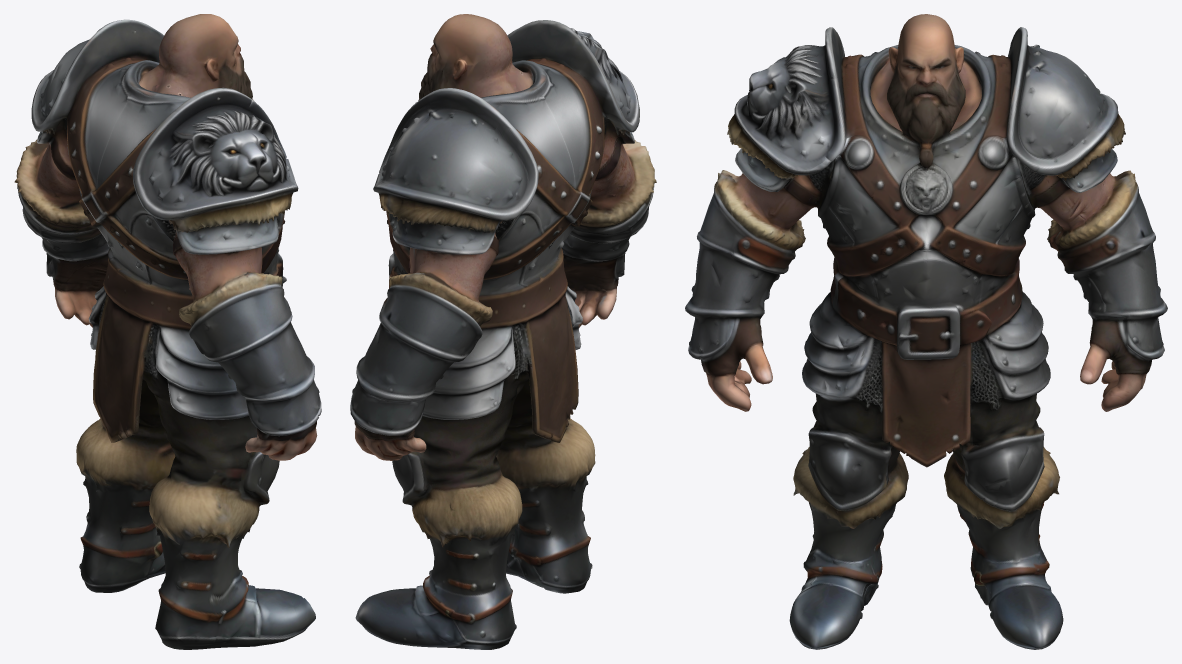
File: Vex_for_mixamo.fbx
3 views of the same model, side by side, from view 1: azimuth 30°, elevation 25°; view 2: azimuth 150°, elevation 25°; view 3: azimuth 270°, elevation 25° (orthographic). The views are drawn at different scales.
Visible parts, largest first — view 1: Vex_Export; view 2: Vex_Export; view 3: Vex_Export.
Part boxes in pixels (x1,y1,x2,y2): Vex_Export: (14,14,321,649); Vex_Export: (350,14,656,649); Vex_Export: (685,14,1167,649).
Size of the model in its own units: 32.93 by 100 by 72.4.
1 material, 1 textured.
